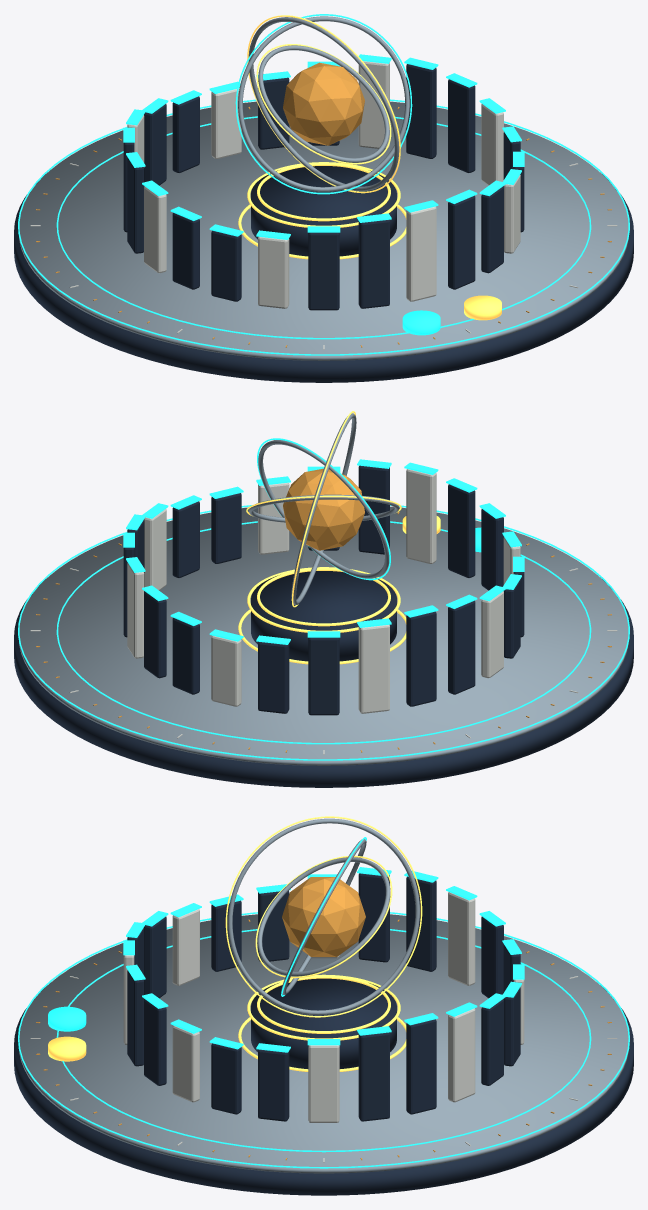
Rendered from hub.glb.
The picture shows the model from 3 angles, top to bottom: view 1: azimuth 30°, elevation 25°; view 2: azimuth 150°, elevation 25°; view 3: azimuth 270°, elevation 25°; orthographic projection.
Visible parts, largest first — view 1: Floating_plinth___crown, Floating_plinth___lower, Reactor_pedestal, Faceted_heart, Titanium_petal_18, Titanium_petal_17, Orbital_titanium_1, Titanium_petal_02, Titanium_petal_16, Titanium_petal_01, Titanium_petal_19, Orbital_titanium_2 (+24 smaller); view 2: Floating_plinth___crown, Floating_plinth___lower, Reactor_pedestal, Faceted_heart, Titanium_petal_10, Titanium_petal_18, Titanium_petal_09, Titanium_petal_08, Titanium_petal_11, Titanium_petal_17, Concentric_wayfinding, Titanium_petal_07 (+19 smaller); view 3: Floating_plinth___crown, Floating_plinth___lower, Reactor_pedestal, Faceted_heart, Orbital_titanium_2, Titanium_petal_02, Titanium_petal_01, Titanium_petal_00, Titanium_petal_03, Titanium_petal_09, Concentric_wayfinding, Titanium_petal_10 (+22 smaller).
Boxes of the visible parts, left/top/right/bottom form: Floating_plinth___crown: left=19, top=101, right=628, bottom=360; Floating_plinth___lower: left=14, top=172, right=633, bottom=382; Reactor_pedestal: left=251, top=166, right=396, bottom=256; Faceted_heart: left=283, top=62, right=364, bottom=145; Titanium_petal_18: left=406, top=206, right=436, bottom=301; Titanium_petal_17: left=358, top=219, right=389, bottom=308; Orbital_titanium_1: left=238, top=16, right=409, bottom=191; Titanium_petal_02: left=406, top=64, right=436, bottom=158; Titanium_petal_16: left=308, top=232, right=339, bottom=310; Titanium_petal_01: left=448, top=79, right=475, bottom=172; Titanium_petal_19: left=448, top=195, right=475, bottom=289; Orbital_titanium_2: left=248, top=17, right=399, bottom=191; Floating_plinth___crown: left=19, top=506, right=628, bottom=765; Floating_plinth___lower: left=14, top=577, right=633, bottom=787; Reactor_pedestal: left=251, top=571, right=396, bottom=661; Faceted_heart: left=283, top=468, right=364, bottom=550; Titanium_petal_10: left=406, top=611, right=436, bottom=706; Titanium_petal_18: left=406, top=469, right=436, bottom=563; Titanium_petal_09: left=358, top=624, right=389, bottom=713; Titanium_petal_08: left=308, top=637, right=339, bottom=715; Titanium_petal_11: left=448, top=600, right=475, bottom=694; Titanium_petal_17: left=448, top=484, right=475, bottom=577; Concentric_wayfinding: left=18, top=505, right=629, bottom=760; Titanium_petal_07: left=258, top=641, right=289, bottom=713; Floating_plinth___crown: left=19, top=914, right=628, bottom=1173; Floating_plinth___lower: left=14, top=985, right=633, bottom=1195; Reactor_pedestal: left=251, top=978, right=396, bottom=1068; Faceted_heart: left=282, top=877, right=365, bottom=956; Orbital_titanium_2: left=228, top=818, right=419, bottom=1015; Titanium_petal_02: left=406, top=1019, right=436, bottom=1114; Titanium_petal_01: left=358, top=1032, right=389, bottom=1121; Titanium_petal_00: left=308, top=1045, right=339, bottom=1122; Titanium_petal_03: left=448, top=1008, right=475, bottom=1102; Titanium_petal_09: left=448, top=892, right=475, bottom=985; Concentric_wayfinding: left=18, top=912, right=629, bottom=1168; Titanium_petal_10: left=406, top=876, right=436, bottom=971.
Size of the model in its own units: 14 by 5.94 by 14.
